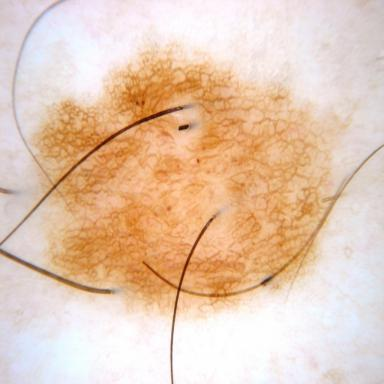nevus: (25, 47, 348, 317)
